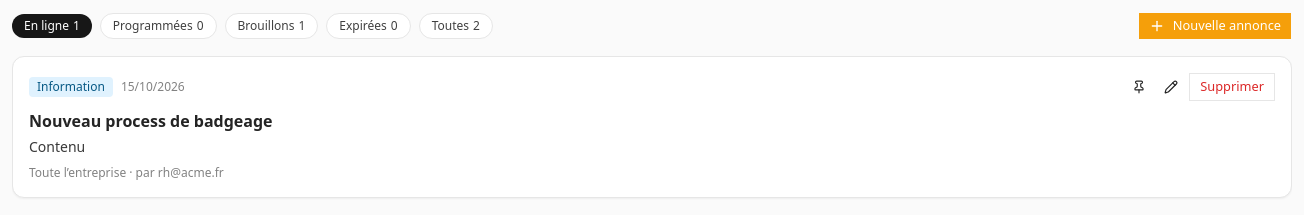
Test: AnnoncesGestion › filtre par statut (en ligne par défaut, brouillons)
Check: the heading "Nouveau process de badgeage" is shown, box [29,110,272,132]
Check: the text "Projet de note RH" is not shown
Step 1. Click the button "Brouillons 1" → (271, 26), box [224,13,318,39]
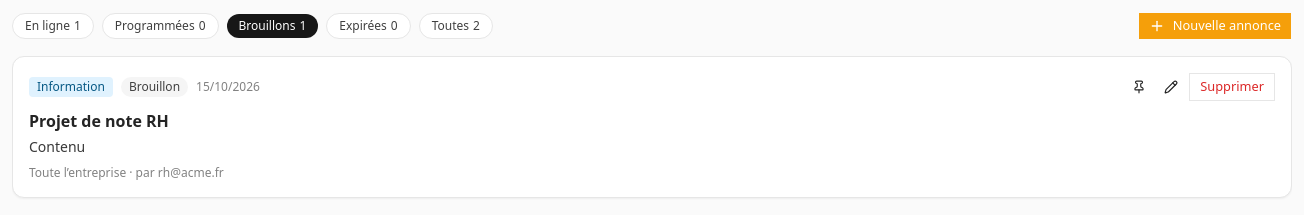
Check: the heading "Projet de note RH" is shown, box [29,110,169,132]
Check: the heading "Nouveau process de badgeage" is gone
